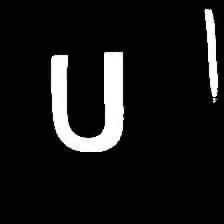LTR_U: (45, 35, 128, 158)
